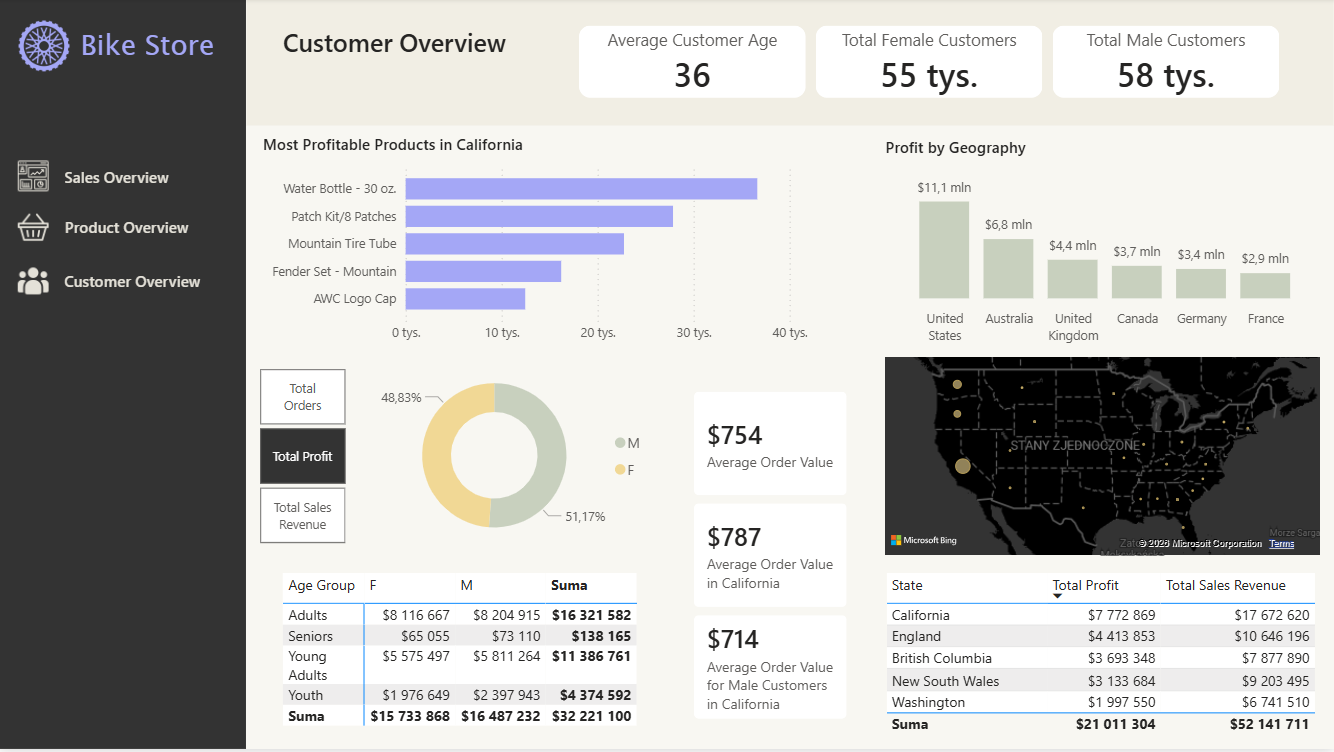

The dashboard page shown, as its layout file describes it:
{"tool":"powerbi","page":{"name":"Customer Overview","canvas":[1280,720],"ordinal":3},"visuals":[{"type":"shape","box":[0,0,236.9,720.2],"z":0},{"type":"textbox","box":[72.6,20.2,153.6,65.5],"z":1000},{"type":"image","box":[17.9,21.4,51.2,48.8],"z":2000},{"type":"image","box":[17.9,156,29.8,29.8],"z":3000},{"type":"image","box":[17.9,204.8,29.8,29.8],"z":4000},{"type":"image","box":[17.9,256,29.8,29.8],"z":5000},{"type":"actionButton","box":[48.8,154.8,127.4,34.5],"z":6000},{"type":"actionButton","box":[58.3,202.4,127.4,34.5],"z":7000},{"type":"actionButton","box":[56,253.6,142.9,34.5],"z":8000},{"type":"map","fields":{"Category":["FactSales.State","FactSales.Country"],"Size":["Sum(FactSales.Profit)"]},"box":[844.9,339.2,426.7,200.1],"z":9000},{"type":"columnChart","fields":{"Category":["FactSales.Country"],"Y":["_Measures.Total Profit"]},"box":[844.9,155.8,424.3,183.4],"z":10000},{"type":"donutChart","fields":{"Category":["FactSales.Customer_Gender"],"Y":["_Measures.Total Sales Revenue"]},"box":[356,330.8,273.3,215.7],"z":11000},{"type":"slicer","fields":{"Values":["Parametr.Parametr"]},"box":[224.1,348.8,131.8,181],"z":12000},{"type":"pivotTable","fields":{"Columns":["FactSales.Customer_Gender"],"Rows":["FactSales.Age_FriendlyName"],"Values":["_Measures.Total Sales Revenue"]},"box":[267.9,546.4,382.1,163.1],"z":13000},{"type":"tableEx","fields":{"Values":["FactSales.State","_Measures.Total Profit","_Measures.Total Sales Revenue"]},"box":[844.9,546.5,424.3,164.2],"z":14000},{"type":"barChart","title":"Most Profitable Products in California","fields":{"Category":["FactSales.Product"],"Y":["_Measures.Total Quantity Sold"]},"box":[248.1,129.4,532.1,209.7],"z":15000},{"type":"shape","box":[237.3,0,1042.7,122.2],"z":16000},{"type":"textbox","box":[267.3,21.6,234.9,46.7],"z":17000},{"type":"cardVisual","fields":{"Data":["_Measures.Average Order Value","_Measures.Average Order Value in California","_Measures.Average Order Value for Male Customers in California"]},"box":[649.6,360.7,181,348.8],"z":18000},{"type":"textbox","box":[844.9,128.2,411.1,32.4],"z":19000},{"type":"cardVisual","fields":{"Data":["_Measures.Average Customer Age","_Measures.Total Female Customers","_Measures.Total Male Customers"]},"box":[539.3,9.6,705.9,103.1],"z":19001}]}

Visuals, with their boxes on the page's 1280x720 design canvas (x1, y1, x2, y2). These are canvas units, not pixel positions in the 1334x752 screenshot, which may show the page scaled, cropped or inside an application window:
shape: (left=0, top=0, right=237, bottom=720)
textbox: (left=73, top=20, right=226, bottom=86)
image: (left=18, top=21, right=69, bottom=70)
image: (left=18, top=156, right=48, bottom=186)
image: (left=18, top=205, right=48, bottom=235)
image: (left=18, top=256, right=48, bottom=286)
actionButton: (left=49, top=155, right=176, bottom=189)
actionButton: (left=58, top=202, right=186, bottom=237)
actionButton: (left=56, top=254, right=199, bottom=288)
map - FactSales.State x FactSales.Country: (left=845, top=339, right=1272, bottom=539)
columnChart - FactSales.Country x _Measures.Total Profit: (left=845, top=156, right=1269, bottom=339)
donutChart - FactSales.Customer_Gender x _Measures.Total Sales Revenue: (left=356, top=331, right=629, bottom=546)
slicer - Parametr.Parametr: (left=224, top=349, right=356, bottom=530)
pivotTable - FactSales.Customer_Gender x FactSales.Age_FriendlyName: (left=268, top=546, right=650, bottom=710)
tableEx - FactSales.State x _Measures.Total Profit: (left=845, top=546, right=1269, bottom=711)
"Most Profitable Products in California" barChart: (left=248, top=129, right=780, bottom=339)
shape: (left=237, top=0, right=1280, bottom=122)
textbox: (left=267, top=22, right=502, bottom=68)
cardVisual - _Measures.Average Order Value x _Measures.Average Order Value in California: (left=650, top=361, right=831, bottom=710)
textbox: (left=845, top=128, right=1256, bottom=161)
cardVisual - _Measures.Average Customer Age x _Measures.Total Female Customers: (left=539, top=10, right=1245, bottom=113)
